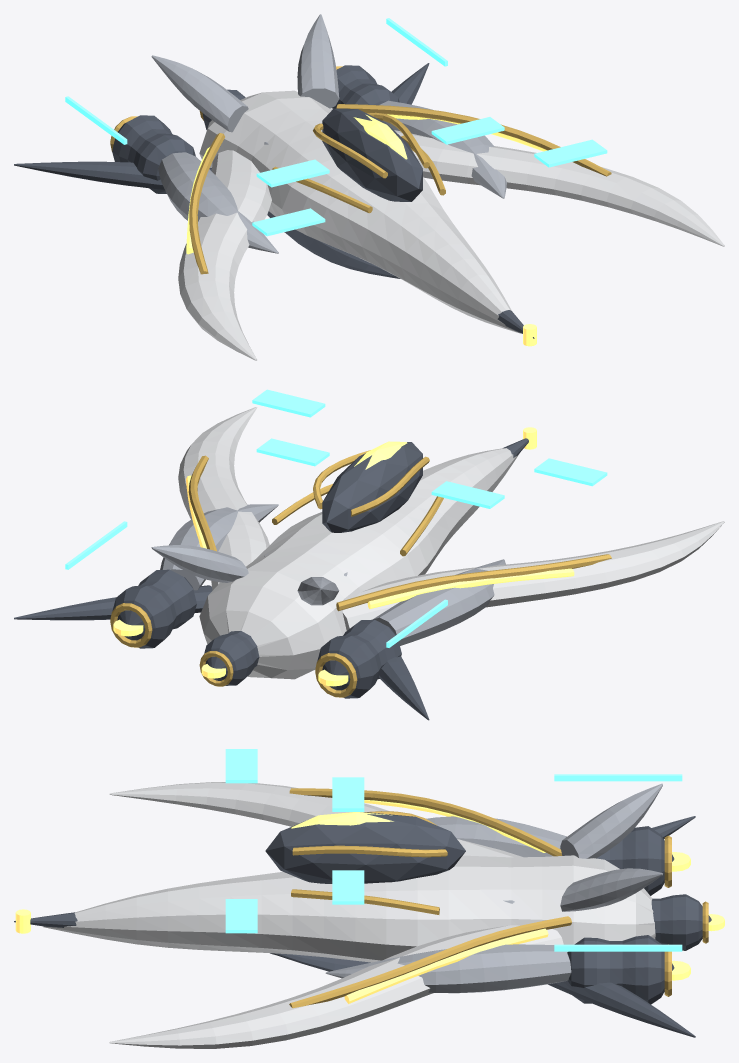
File: SL_LYNX_HQ.glb
The picture shows the model from 3 angles, top to bottom: view 1: azimuth 30°, elevation 25°; view 2: azimuth 150°, elevation 25°; view 3: azimuth 270°, elevation 25°; orthographic projection. The views are drawn at different scales.
Visible parts, largest first — view 1: armor, dark, plate, accent, V59 trim baked, energy; view 2: armor, dark, plate, accent, V59 trim baked, energy; view 3: armor, dark, plate, accent, V59 trim baked, energy.
Part boxes in pixels (<box>): armor: <box>178,90,724,360</box>; dark: <box>14,63,534,338</box>; plate: <box>151,14,506,253</box>; accent: <box>110,66,611,274</box>; V59 trim baked: <box>65,18,607,236</box>; energy: <box>186,114,546,346</box>; armor: <box>178,407,724,679</box>; dark: <box>14,438,528,720</box>; plate: <box>151,504,505,645</box>; accent: <box>110,450,611,697</box>; V59 trim baked: <box>65,389,607,647</box>; energy: <box>113,427,574,686</box>; armor: <box>43,782,655,1048</box>; dark: <box>14,812,711,1037</box>; plate: <box>325,783,662,993</box>; accent: <box>289,788,708,1008</box>; V59 trim baked: <box>225,749,682,951</box>; energy: <box>15,800,724,1003</box>.
Size of the model in its own units: 5.23 by 1.59 by 6.08.
